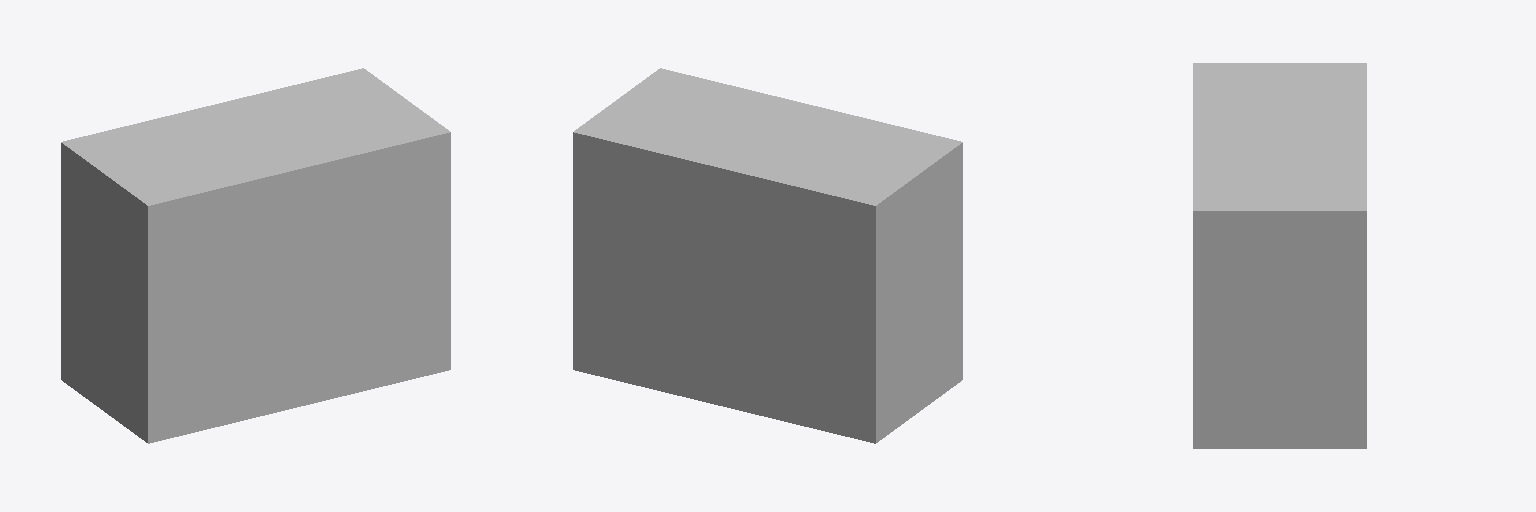
Rendered from VeryLargeMedicalKit_LOD1.obj.
3 renders of one model, left to right at view 1: azimuth 30°, elevation 25°; view 2: azimuth 150°, elevation 25°; view 3: azimuth 270°, elevation 25°, orthographic.
Visible parts, largest first — view 1: object 1; view 2: object 1; view 3: object 1.
Part boxes in pixels (x1,y1,x2,y2): object 1: (61, 68, 450, 443); object 1: (573, 68, 962, 443); object 1: (1193, 63, 1366, 448).
Bounding box in the file's own units: 1.2 × 0.9 × 0.6.